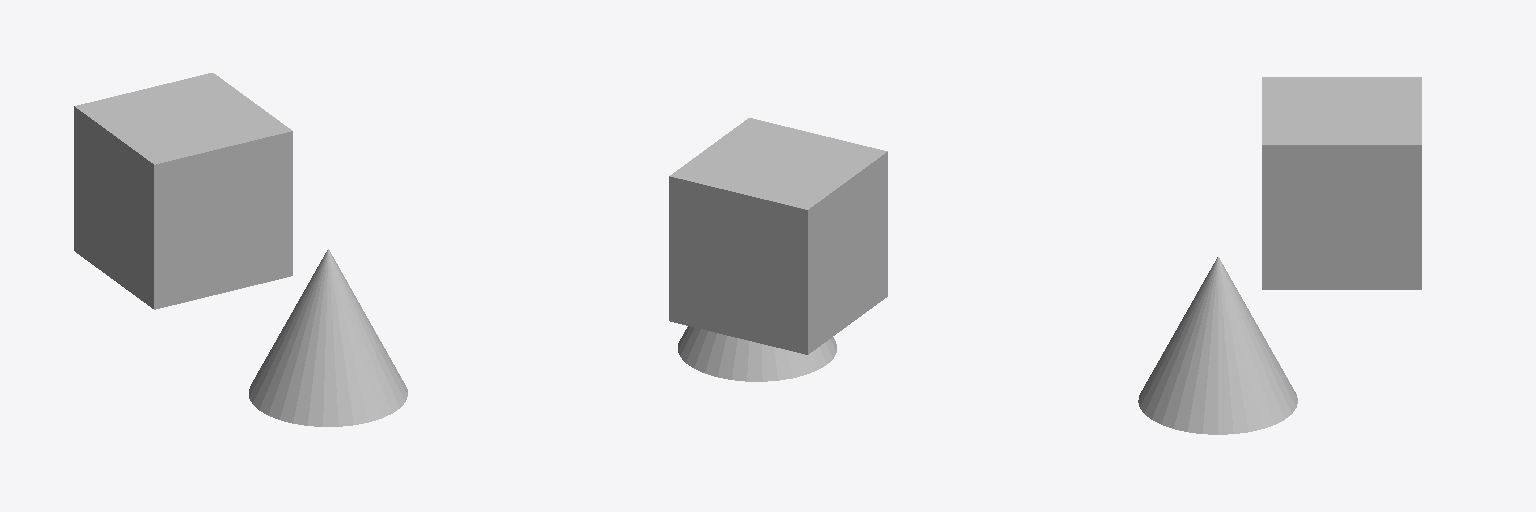
Rendered from mapbox.obj.
3 renders of one model, left to right at view 1: azimuth 30°, elevation 25°; view 2: azimuth 150°, elevation 25°; view 3: azimuth 270°, elevation 25°, orthographic.
Visible parts, largest first — view 1: Cube, Cone; view 2: Cube, Cone; view 3: Cube, Cone.
Part boxes in pixels (bbox=[...]): Cube: bbox=[74, 73, 292, 309]; Cone: bbox=[249, 249, 407, 426]; Cube: bbox=[669, 118, 887, 354]; Cone: bbox=[678, 326, 836, 381]; Cube: bbox=[1262, 77, 1421, 289]; Cone: bbox=[1138, 257, 1297, 434].
Size of the model in its own units: 3.2 by 3.44 by 3.54.